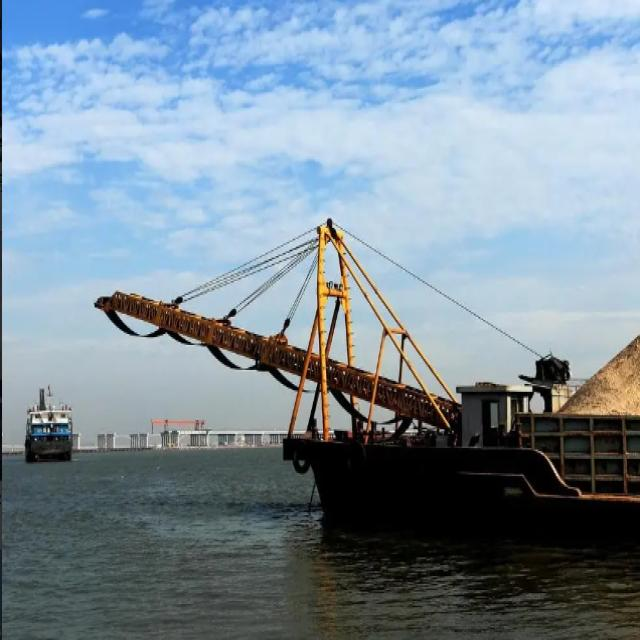fishing boat: (22, 368, 76, 455)
